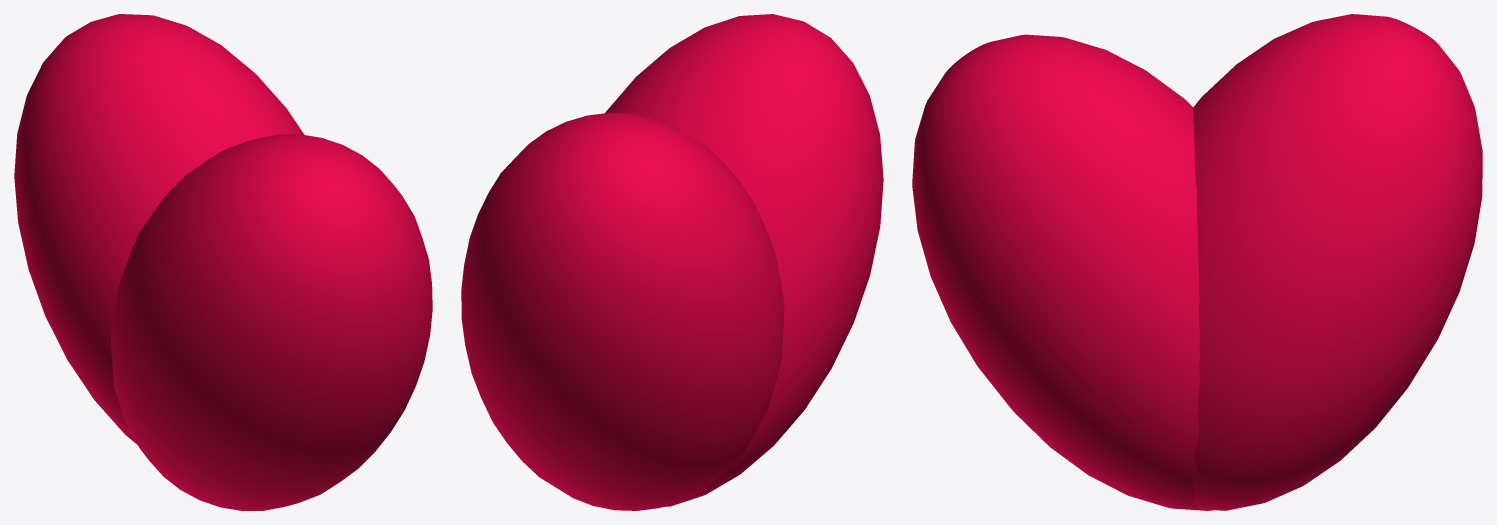
Rendered from asset.glb.
The picture shows the model from 3 angles, left to right: view 1: azimuth 30°, elevation 25°; view 2: azimuth 150°, elevation 25°; view 3: azimuth 270°, elevation 25°; orthographic projection. The views are drawn at different scales.
Parts seen in each view (by area): view 1: Sphere; view 2: Sphere; view 3: Sphere.
Boxes of the visible parts, box(x1,y1,x2,y2) form: Sphere: box(14, 14, 432, 510); Sphere: box(461, 14, 883, 510); Sphere: box(912, 14, 1482, 510).
Size of the model in its own units: 19.57 by 28.6 by 32.48.
